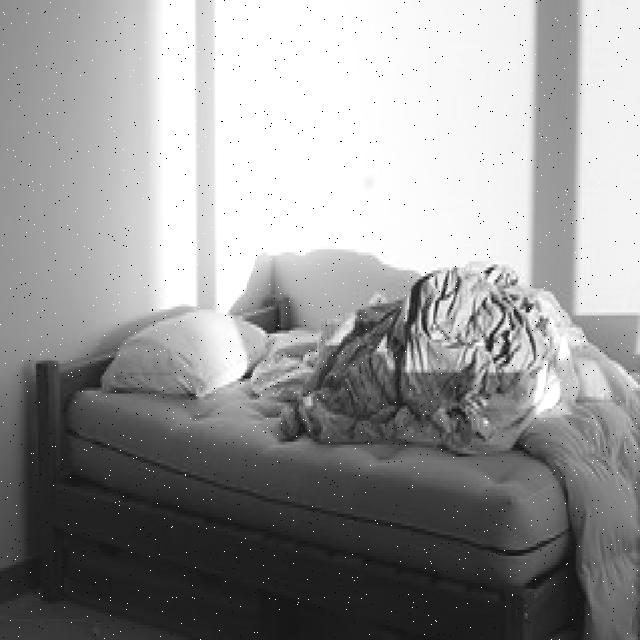bed: (29, 259, 640, 558)
